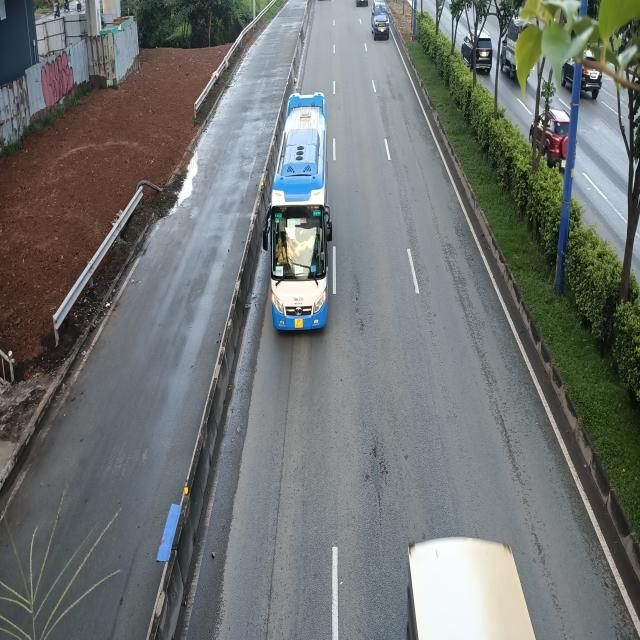car: (373, 1, 391, 40)
